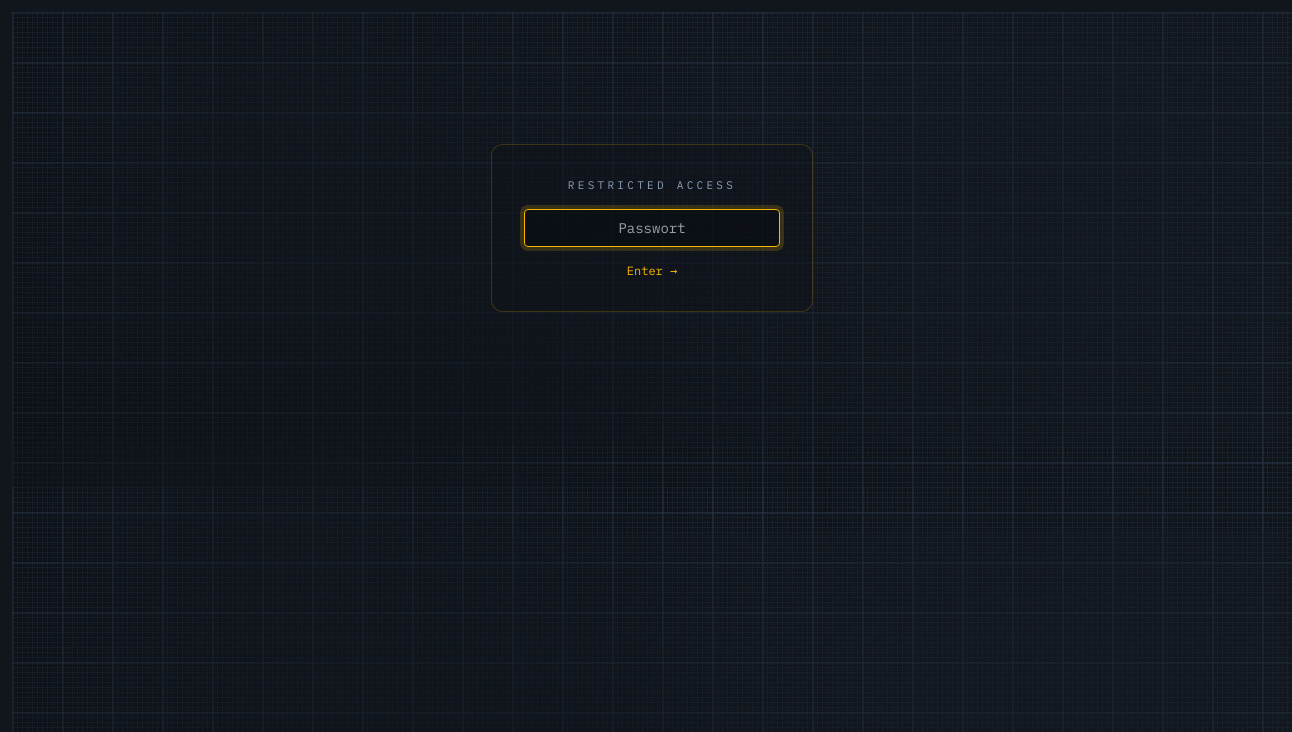
Test: Sea-Shield access gate › keeps rejected credentials locked and unlocks only after server verification
In the password field with placeholder "Passwort": (652, 228) [524,209,780,247], type "incorrect"
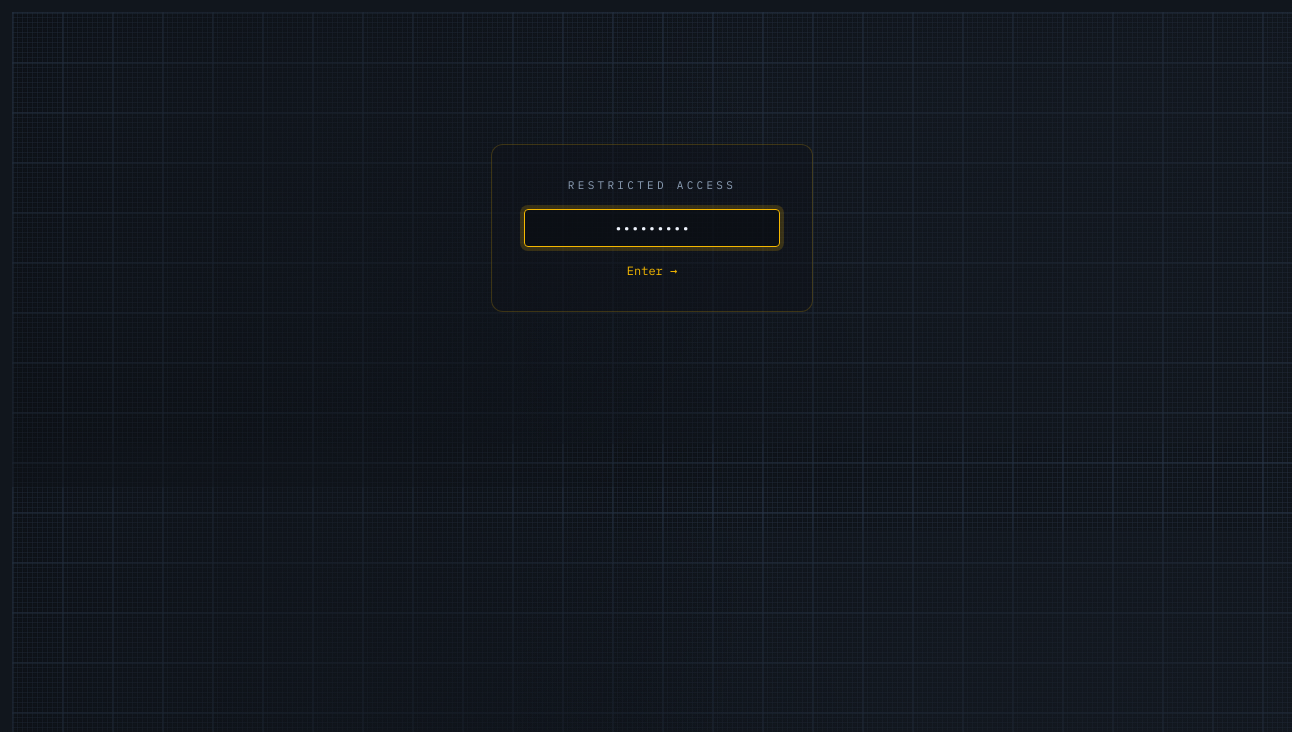
Click the button "Enter →": (652, 271) [627,263,677,279]
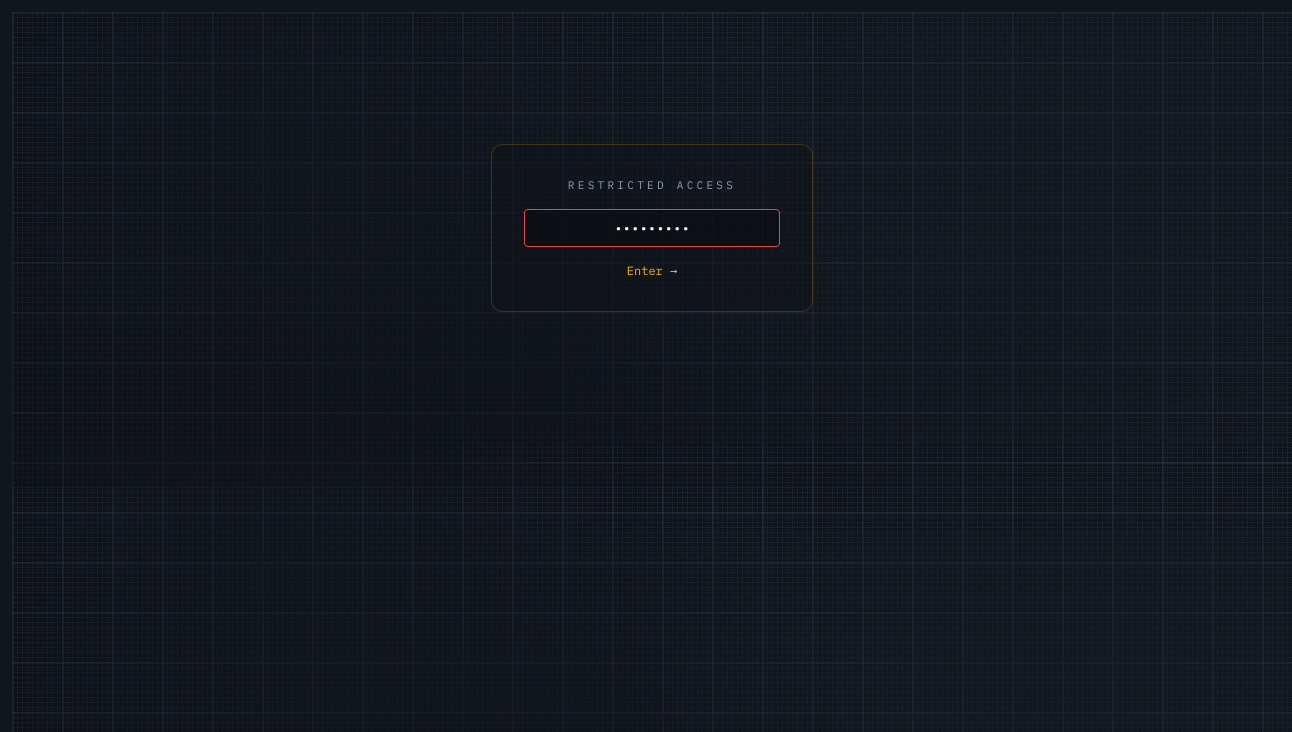
Expected: the text "Protected workspace" is not shown
Click the button "Enter →": (652, 271) [627,263,677,279]
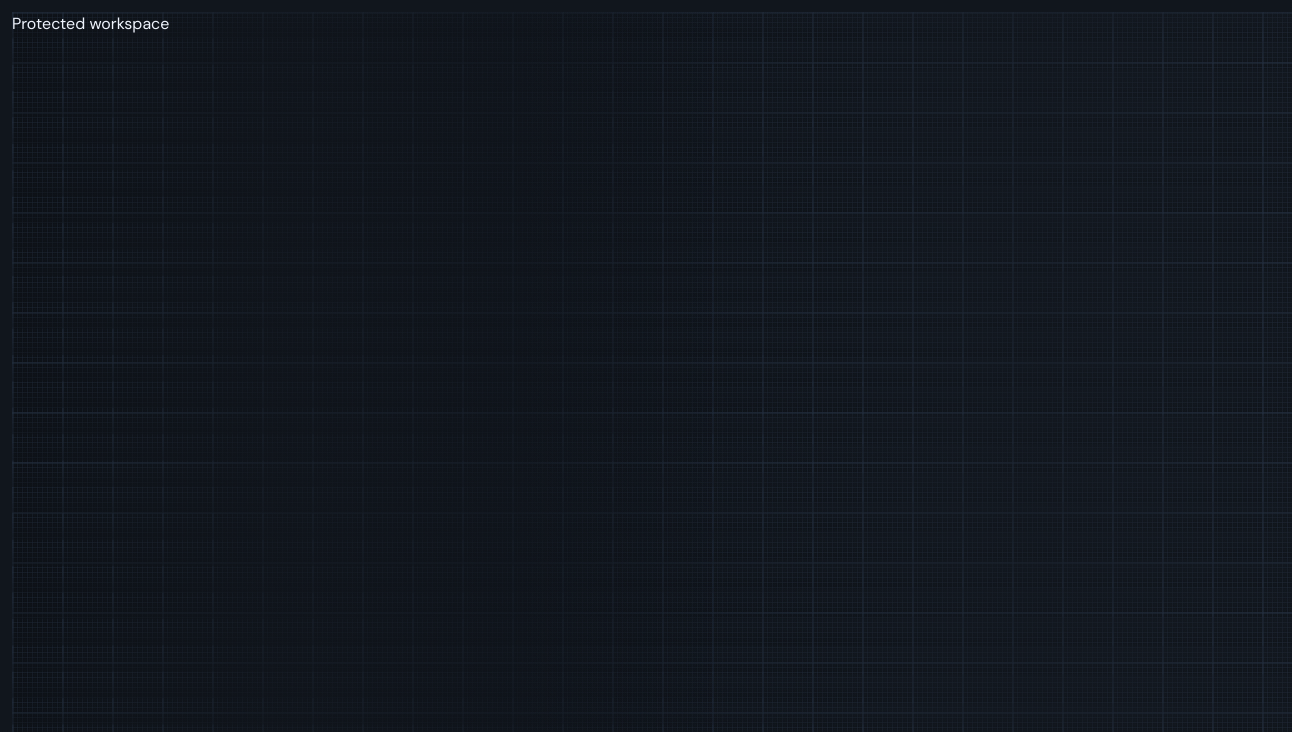
Result: the text "Protected workspace" is shown at [12,13,169,34]
